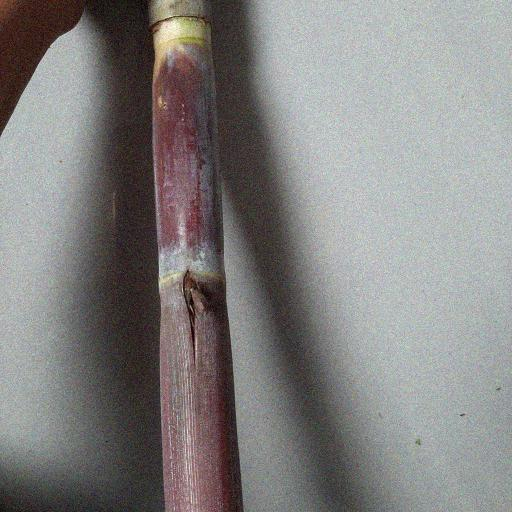Damage_Bud: (179, 270, 210, 356)
